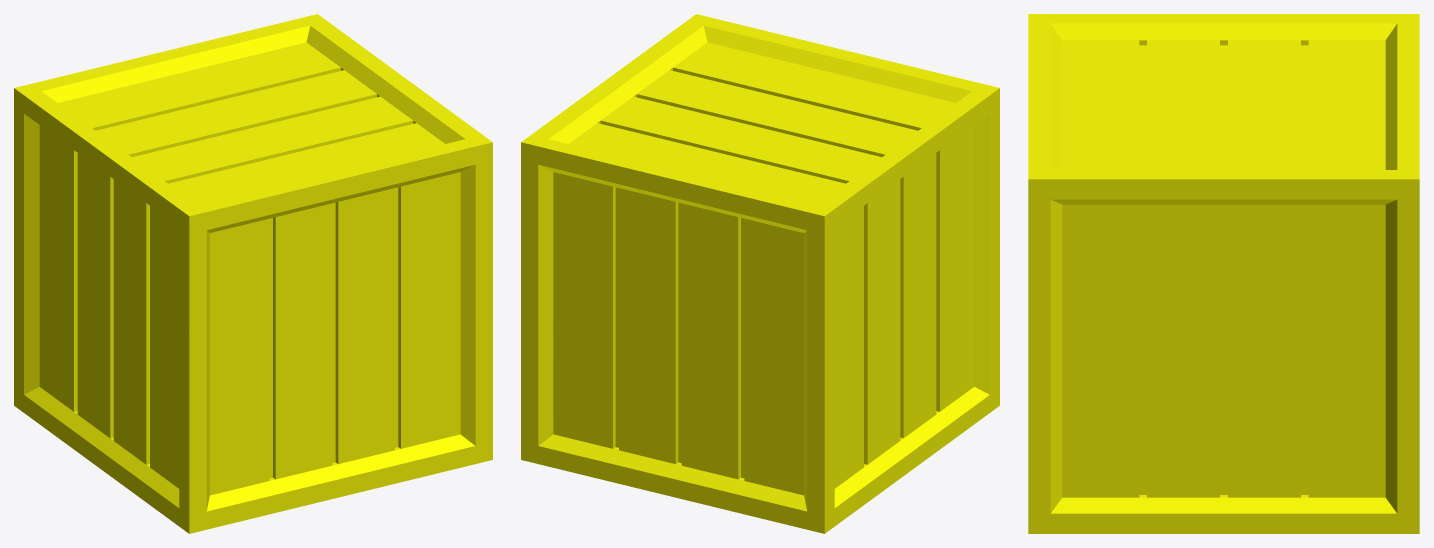
The picture shows the model from 3 angles, left to right: view 1: azimuth 30°, elevation 25°; view 2: azimuth 150°, elevation 25°; view 3: azimuth 270°, elevation 25°; orthographic projection. The views are drawn at different scales.
Visible parts, largest first — view 1: Box; view 2: Box; view 3: Box.
Part boxes in pixels (x1,y1,x2,y2): Box: (14, 14, 492, 533); Box: (521, 14, 999, 533); Box: (1028, 14, 1419, 533).
Bounding box in the file's own units: 1 × 1 × 1.
1 material, 1 textured.
